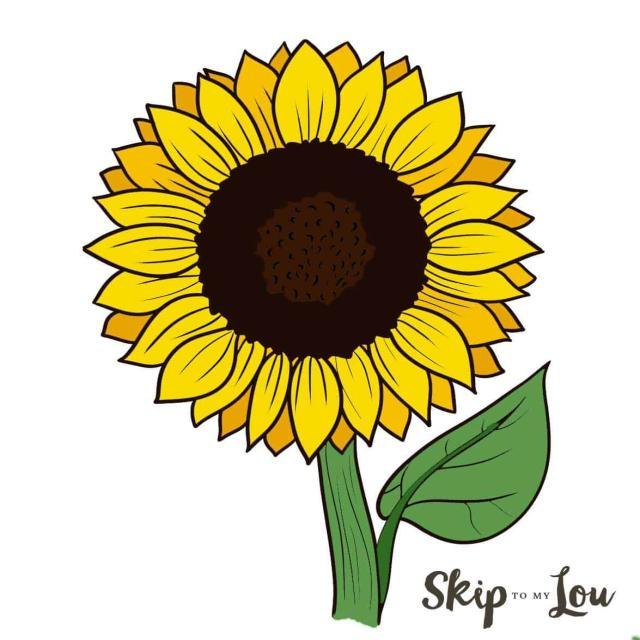sunflower: (82, 38, 544, 464)
